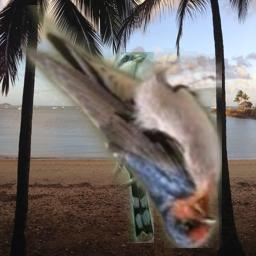Cuckoo: (108, 52, 154, 243)
Swallow: (22, 5, 222, 248)
